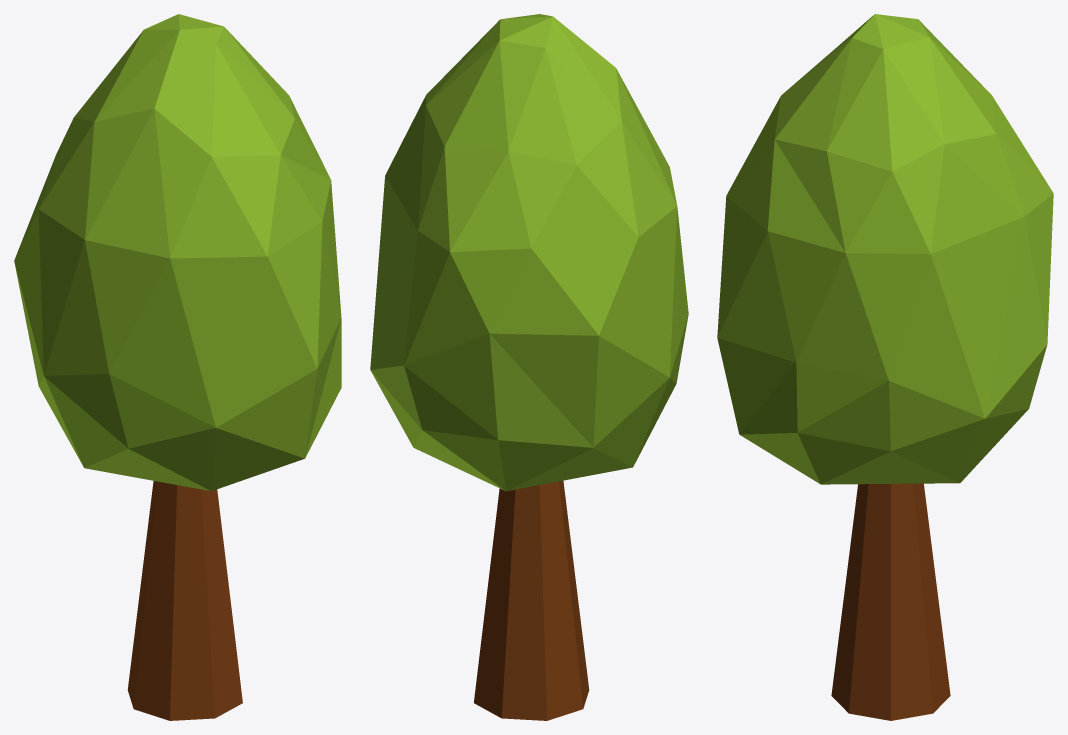
Rendered from baumspitze.fbx.
3 views of the same model, side by side, from view 1: azimuth 30°, elevation 25°; view 2: azimuth 150°, elevation 25°; view 3: azimuth 270°, elevation 25° (orthographic).
Parts seen in each view (by area): view 1: Icosphere, Cylinder; view 2: Icosphere, Cylinder; view 3: Icosphere, Cylinder.
Boxes of the visible parts, x1,y1,x2,y2 form: Icosphere: [14, 14, 341, 491]; Cylinder: [127, 481, 242, 720]; Icosphere: [370, 14, 688, 491]; Cylinder: [474, 480, 589, 720]; Icosphere: [717, 14, 1053, 484]; Cylinder: [831, 483, 950, 720].
Bounding box in the file's own units: 365 × 838 × 378.
